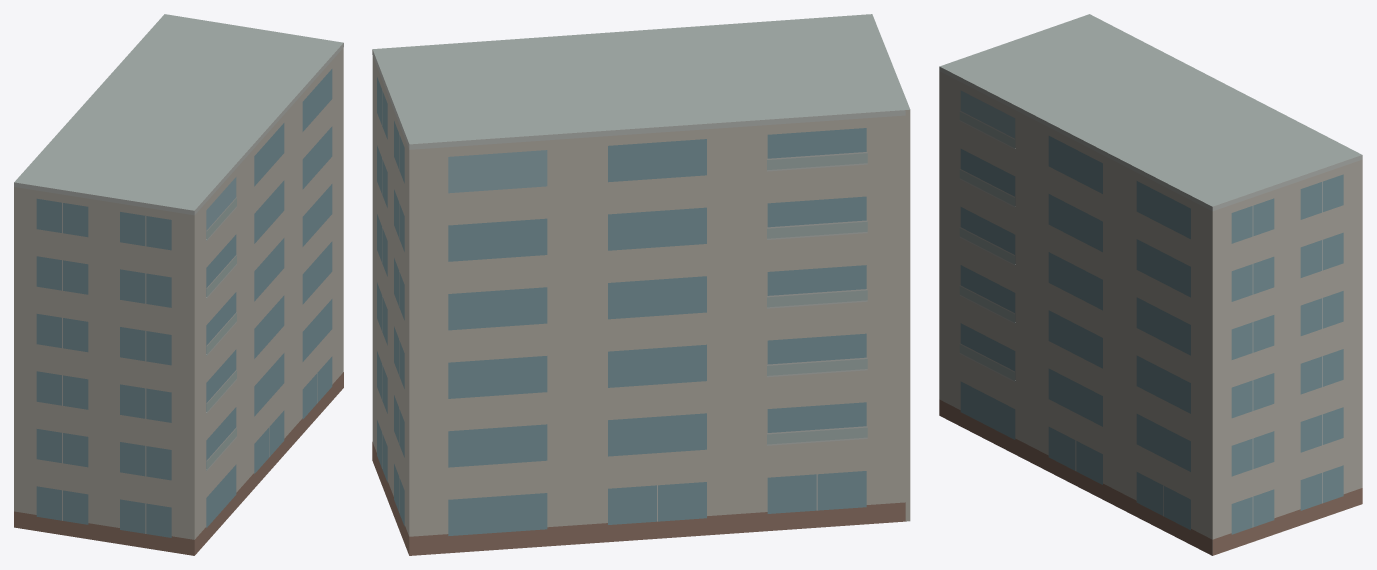
The model's file is survey-upis-32672672.glb.
3 views of the same model, side by side, from view 1: azimuth 30°, elevation 25°; view 2: azimuth 150°, elevation 25°; view 3: azimuth 270°, elevation 25° (orthographic). The views are drawn at different scales.
Visible parts, largest first — view 1: survey-upis-32672672.tmp; view 2: survey-upis-32672672.tmp; view 3: survey-upis-32672672.tmp.
Part boxes in pixels (x1=…): survey-upis-32672672.tmp: x1=14, y1=14, x2=343, y2=555; survey-upis-32672672.tmp: x1=372, y1=14, x2=910, y2=555; survey-upis-32672672.tmp: x1=939, y1=14, x2=1362, y2=555.
Size of the model in its own units: 21.67 by 18.3 by 20.11.
